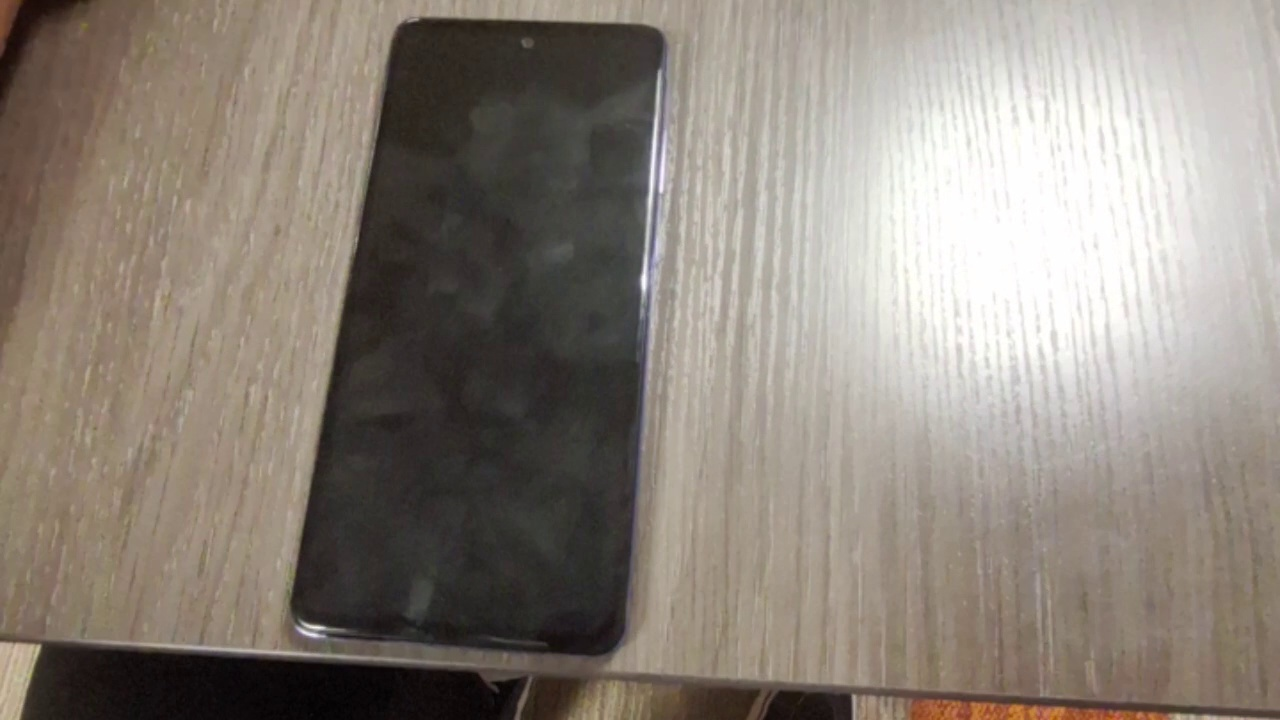celular: (287, 20, 672, 660)
